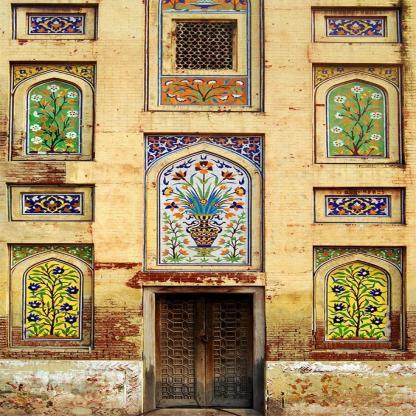Door: (156, 293, 254, 408)
Floor: (1, 0, 415, 111), (1, 116, 415, 227)
Floor Slab: (1, 227, 415, 232), (1, 111, 415, 116)
Ground Floor: (1, 233, 415, 416)
Window: (177, 22, 233, 70)
